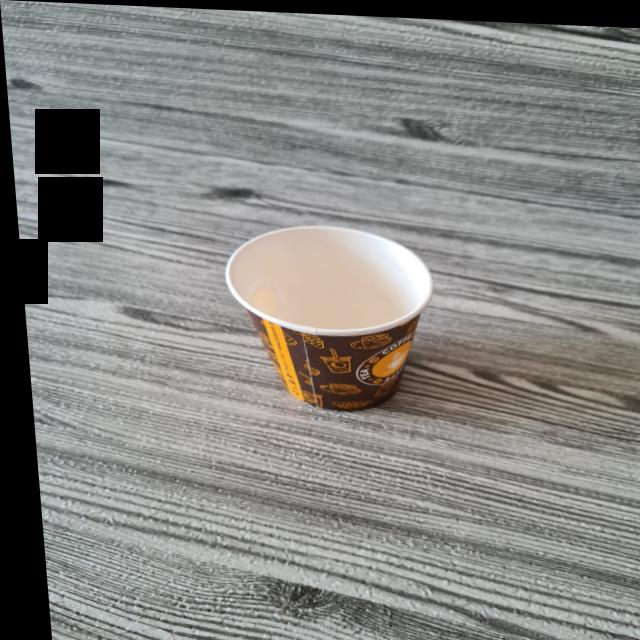cups: (204, 216, 451, 416)
